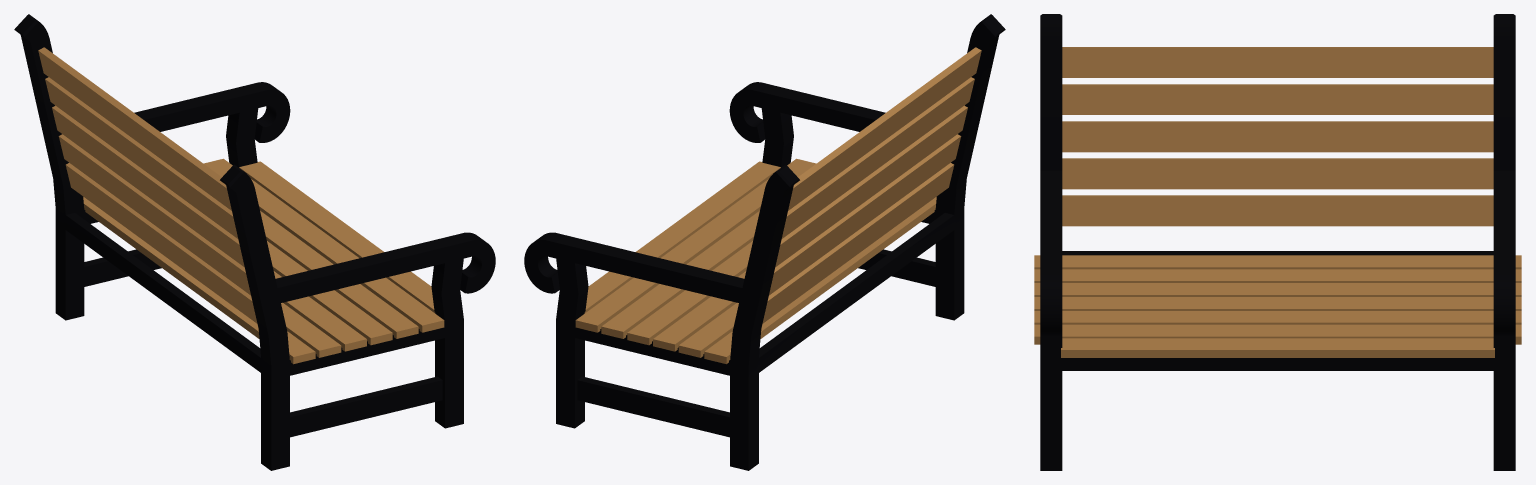
File: parkbench.fbx
3 renders of one model, left to right at view 1: azimuth 30°, elevation 25°; view 2: azimuth 150°, elevation 25°; view 3: azimuth 270°, elevation 25°, orthographic. The views are drawn at different scales.
Visible parts, largest first — view 1: Cube.001; view 2: Cube.001; view 3: Cube.001.
Boxes of the visible parts, box(x1,y1,x2,y2) form: Cube.001: box(14, 14, 495, 470); Cube.001: box(524, 14, 1005, 470); Cube.001: box(1034, 14, 1521, 470).
Bounding box in the file's own units: 528 × 580 × 758.
